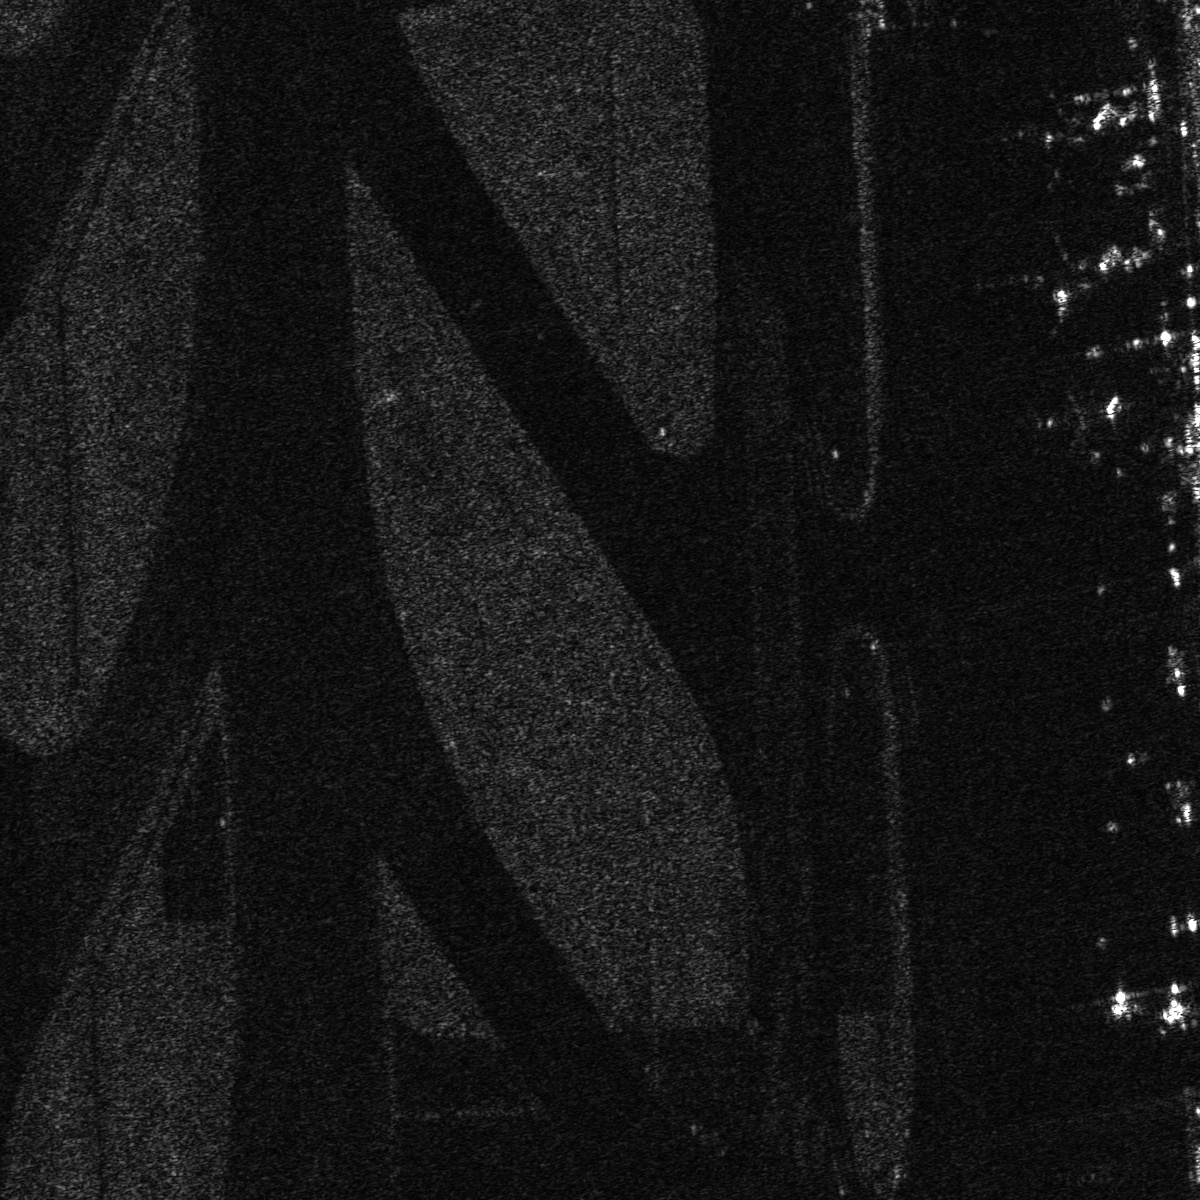ARJ21: (964, 216, 1122, 338)
other: (990, 87, 1115, 198), (1030, 384, 1129, 465)
